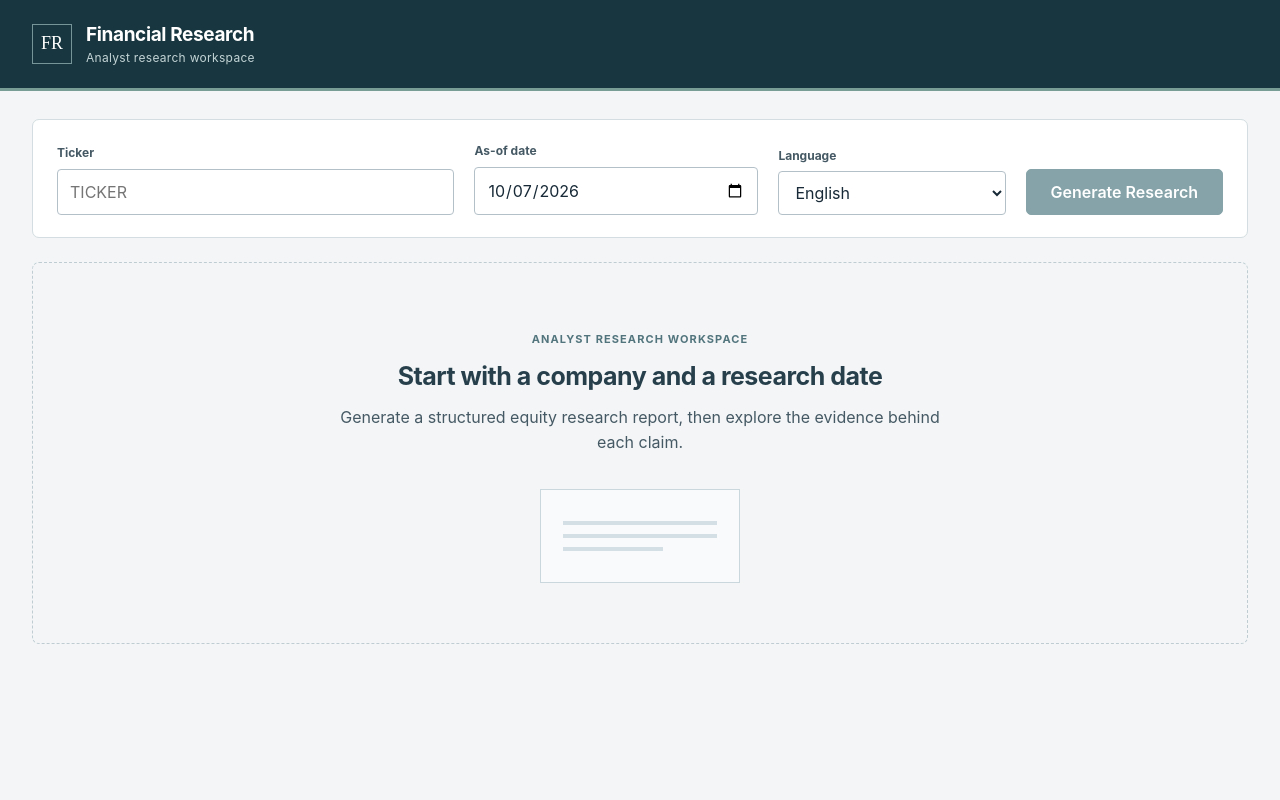
analyst workflow › handles a network rejection without displaying raw exception text
Type "TEST" into the field labelled "Ticker" at point(256, 192), box [57,169,454,215]
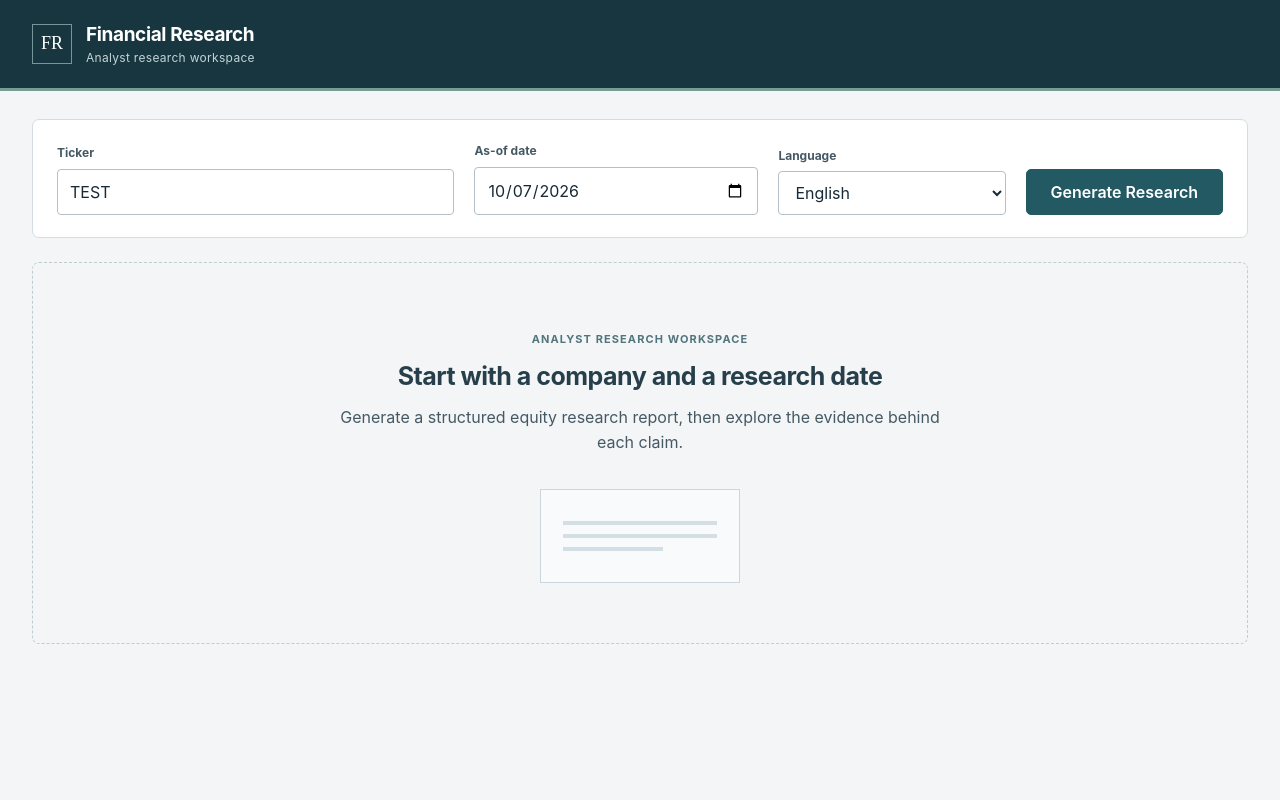
Click the button "Generate Research" at point(1124, 192), box [1026,169,1223,215]
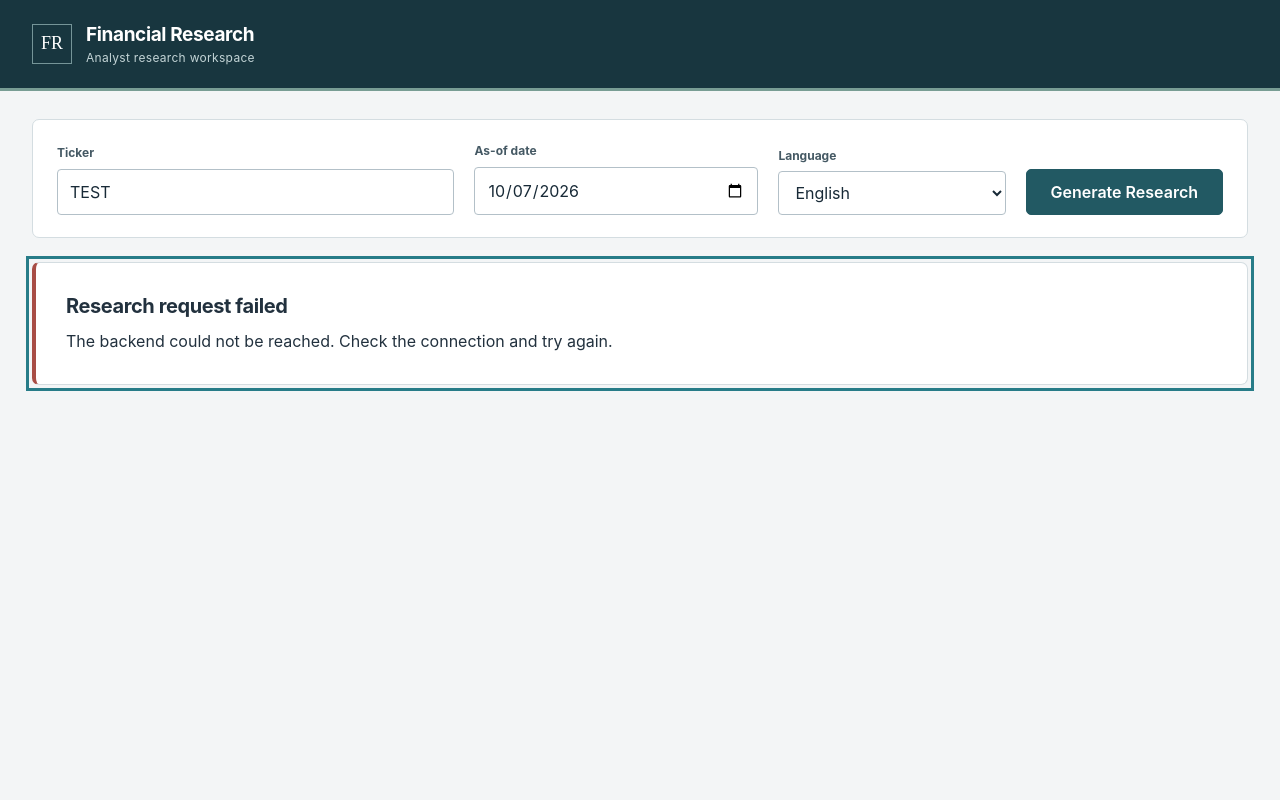
Result: the message shows "The backend could not be reached" at [66,331,613,351]
